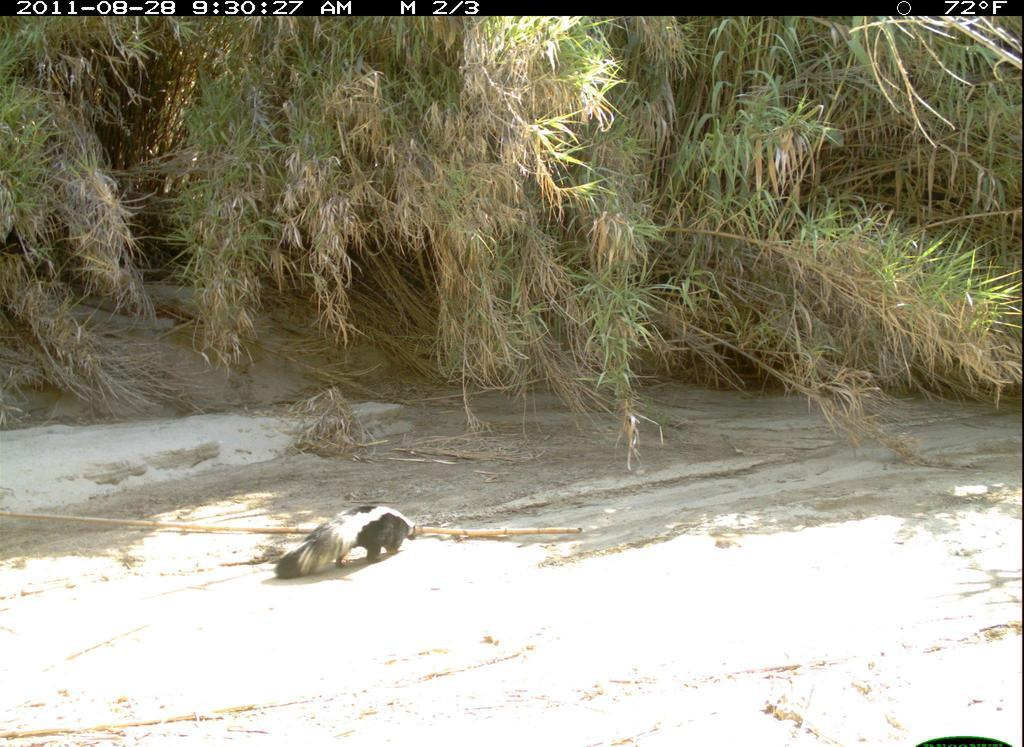skunk: (274, 503, 423, 580)
